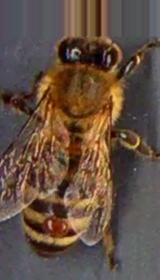varroa_mite: (26, 205, 81, 244)
